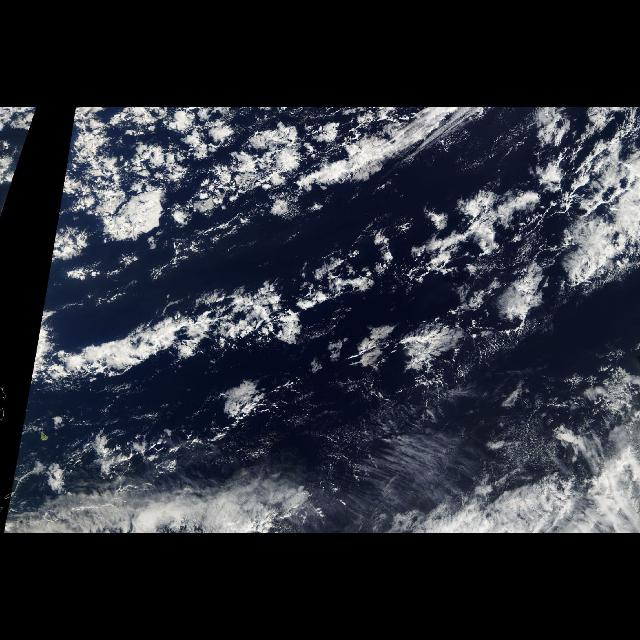Fish: (62, 263, 538, 395)
Flower: (330, 110, 636, 388), (49, 108, 324, 270), (12, 109, 38, 187)
